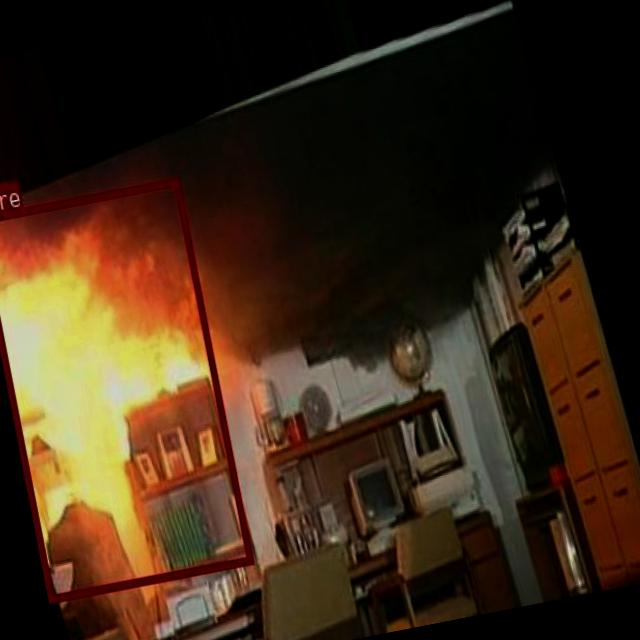fire: (0, 177, 251, 602)
